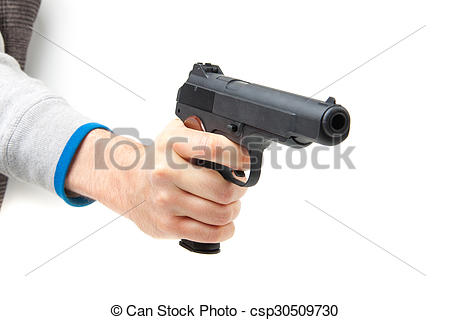pistol: (39, 33, 389, 270)
